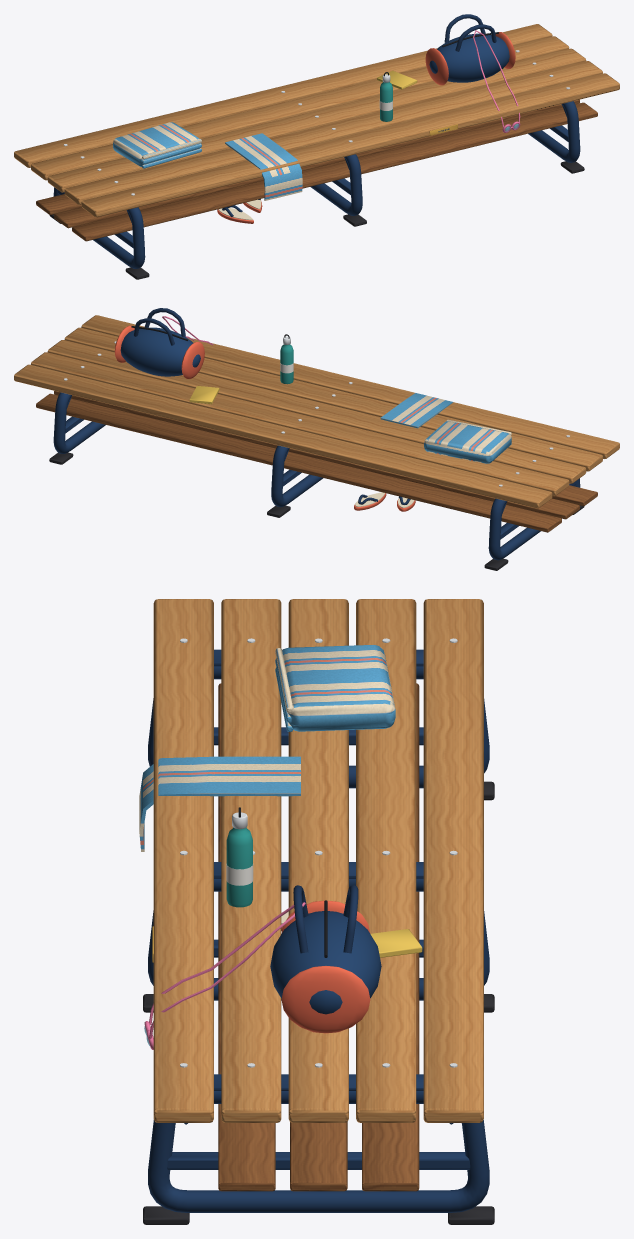
Rendered from bench_dressed.glb.
3 views of the same model, one above another, from view 1: azimuth 30°, elevation 25°; view 2: azimuth 150°, elevation 25°; view 3: azimuth 270°, elevation 25° (orthographic). The views are drawn at different scales.
Visible parts, largest first — view 1: BenchDressedMesh; view 2: BenchDressedMesh; view 3: BenchDressedMesh.
Part boxes in pixels (x1,y1,x2,y2): BenchDressedMesh: (14,14,619,279); BenchDressedMesh: (14,308,619,570); BenchDressedMesh: (139,599,494,1224).
Size of the model in its own units: 3.38 by 0.828 by 0.99.
Materials: 19 (4 with a texture image).
